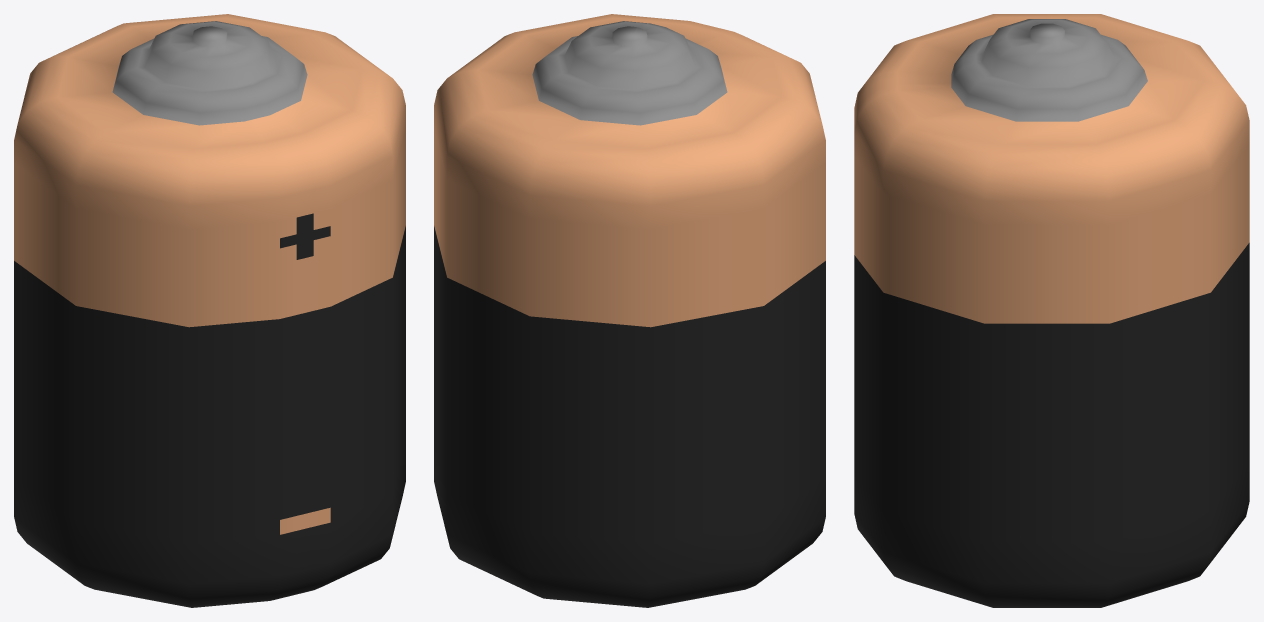
File: battery_Fixed.fbx
3 renders of one model, left to right at view 1: azimuth 30°, elevation 25°; view 2: azimuth 150°, elevation 25°; view 3: azimuth 270°, elevation 25°, orthographic.
Parts seen in each view (by area): view 1: Circle; view 2: Circle; view 3: Circle.
Part boxes in pixels (x1,y1,x2,y2): Circle: (14,14,405,607); Circle: (434,14,825,607); Circle: (854,14,1249,607).
Bounding box in the file's own units: 190 × 278 × 195.
